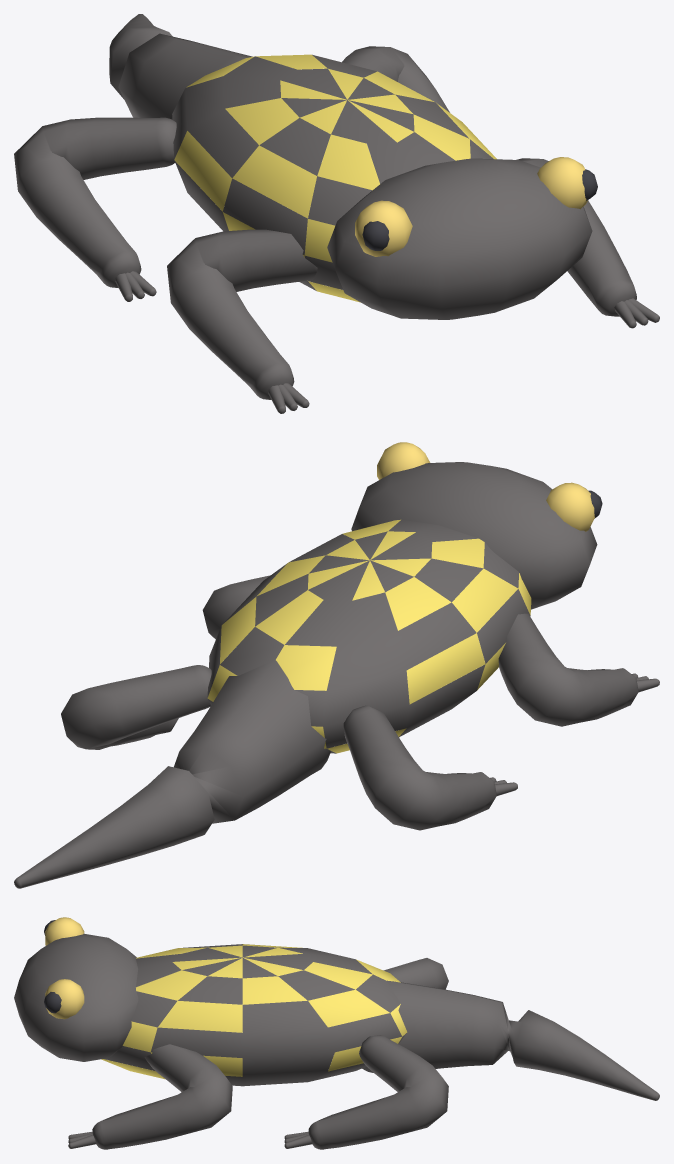
File: reptiles-amphibians-and-minibeasts-fire-salamander-7c27762d__22449.glb
The picture shows the model from 3 angles, top to bottom: view 1: azimuth 30°, elevation 25°; view 2: azimuth 150°, elevation 25°; view 3: azimuth 270°, elevation 25°; orthographic projection. The views are drawn at different scales.
Parts seen in each view (by area): view 1: fire-salamander; view 2: fire-salamander; view 3: fire-salamander.
Part boxes in pixels (<box>): fire-salamander: <box>14,14,659,413</box>; fire-salamander: <box>14,442,659,888</box>; fire-salamander: <box>14,917,659,1149</box>.
Size of the model in its own units: 0.1031 by 0.0478 by 0.2.
